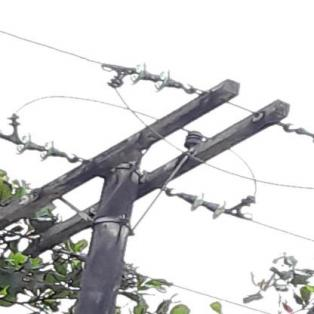Poste: (0, 133, 163, 314)
